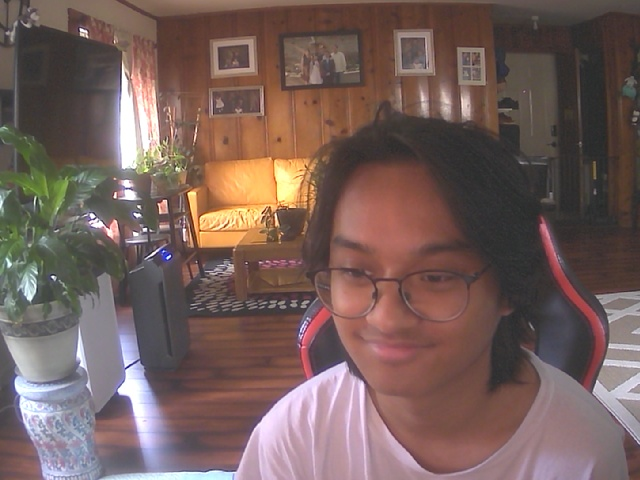happy: (299, 141, 525, 397)
